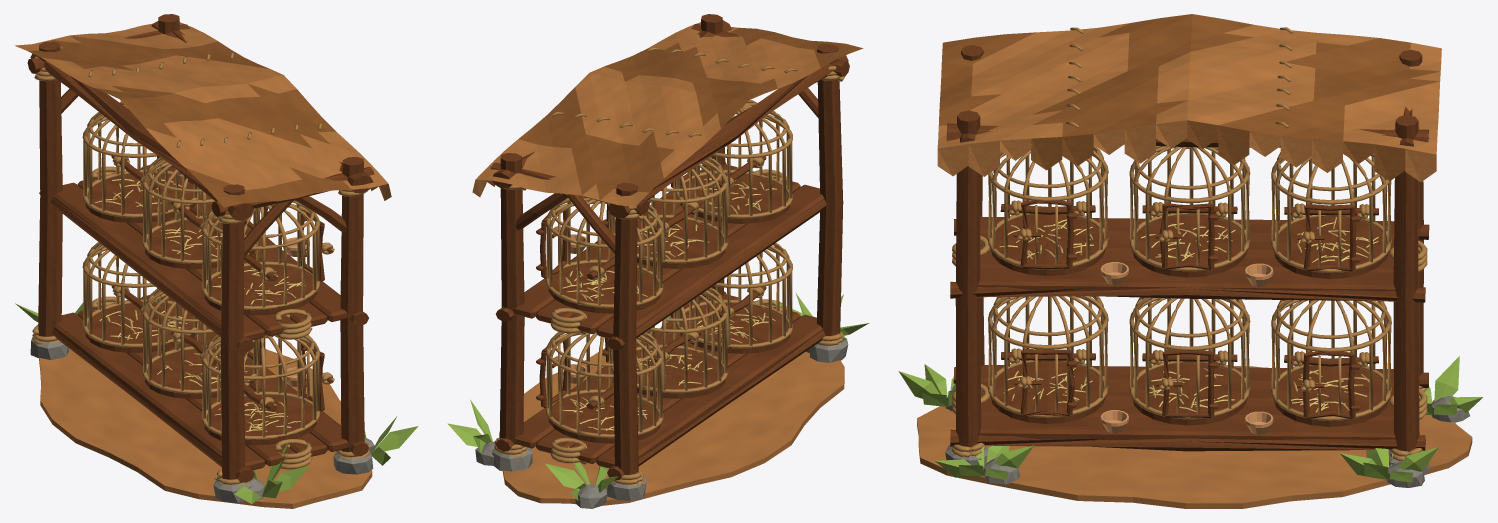
The model's file is cage_rack.glb.
3 renders of one model, left to right at view 1: azimuth 30°, elevation 25°; view 2: azimuth 150°, elevation 25°; view 3: azimuth 270°, elevation 25°, orthographic. The views are drawn at different scales.
Visible parts, largest first — view 1: Timber upright.001, Hide roof.002, Sandy island.001, Rack shelf plank, Hide roof.003, Rack shelf front rail, Horizontal roof beam.001, Curved cage wicker ribs, Curved cage wicker ribs.003, Wood cage circular floor.003, Wood cage circular floor, Wood cage circular floor.005 (+19 smaller); view 2: Timber upright.001, Hide roof.002, Sandy island.001, Rack shelf plank, Hide roof.003, Rack shelf front rail, Horizontal roof beam.001, Curved cage wicker ribs.002, Curved cage wicker ribs.005, Curved cage wicker ribs.003, Curved cage wicker ribs, Curved cage wicker ribs.004 (+22 smaller); view 3: Hide roof.002, Sandy island.001, Hide roof.003, Rack shelf plank, Timber upright.001, Rack shelf front rail, Ragged hide edge.002, Broad ground leaves.001, Ragged hide edge.003, Curved cage wicker ribs, Wood cage circular floor, Wood cage circular floor.003 (+23 smaller).
Boxes of the visible parts, box(x1,y1,x2,y2) form: Timber upright.001: box(38, 14, 364, 479); Hide roof.002: box(15, 22, 388, 189); Sandy island.001: box(39, 348, 372, 508); Rack shelf plank: box(53, 165, 348, 470); Hide roof.003: box(28, 35, 351, 207); Rack shelf front rail: box(39, 191, 368, 482); Horizontal roof beam.001: box(30, 21, 373, 220); Curved cage wicker ribs: box(202, 334, 319, 437); Curved cage wicker ribs.003: box(202, 201, 319, 309); Wood cage circular floor.003: box(204, 265, 316, 315); Wood cage circular floor: box(204, 395, 316, 445); Wood cage circular floor.005: box(85, 173, 195, 223); Timber upright.001: box(499, 14, 843, 479); Hide roof.002: box(476, 22, 820, 206); Sandy island.001: box(499, 333, 844, 505); Rack shelf plank: box(513, 164, 824, 468); Hide roof.003: box(518, 27, 863, 199); Rack shelf front rail: box(496, 162, 826, 480); Horizontal roof beam.001: box(493, 20, 848, 218); Curved cage wicker ribs.002: box(546, 332, 662, 435); Curved cage wicker ribs.005: box(546, 196, 662, 307); Curved cage wicker ribs.003: box(676, 100, 792, 215); Curved cage wicker ribs: box(676, 242, 792, 345); Curved cage wicker ribs.004: box(611, 157, 727, 260); Hide roof.002: box(937, 23, 1441, 154); Sandy island.001: box(917, 366, 1472, 508); Hide roof.003: box(938, 14, 1440, 140); Rack shelf plank: box(978, 217, 1419, 440); Timber upright.001: box(955, 45, 1423, 451); Rack shelf front rail: box(950, 219, 1429, 451); Ragged hide edge.002: box(937, 120, 1436, 181); Broad ground leaves.001: box(898, 356, 1482, 482); Ragged hide edge.003: box(1031, 120, 1405, 181); Curved cage wicker ribs: box(988, 296, 1107, 407); Wood cage circular floor: box(990, 361, 1105, 423); Wood cage circular floor.003: box(990, 214, 1105, 275).
Bounding box in the file's own units: 1.65 × 2.12 × 2.95.
Materials: 8 (5 with a texture image).
